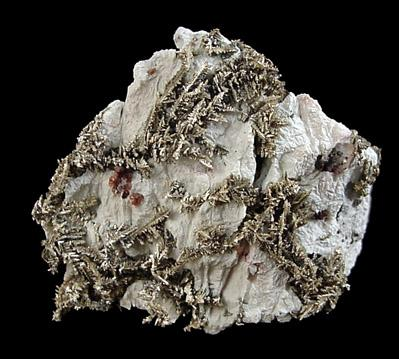silver: (33, 29, 288, 224), (181, 177, 350, 318), (33, 209, 216, 322), (316, 139, 380, 200)
